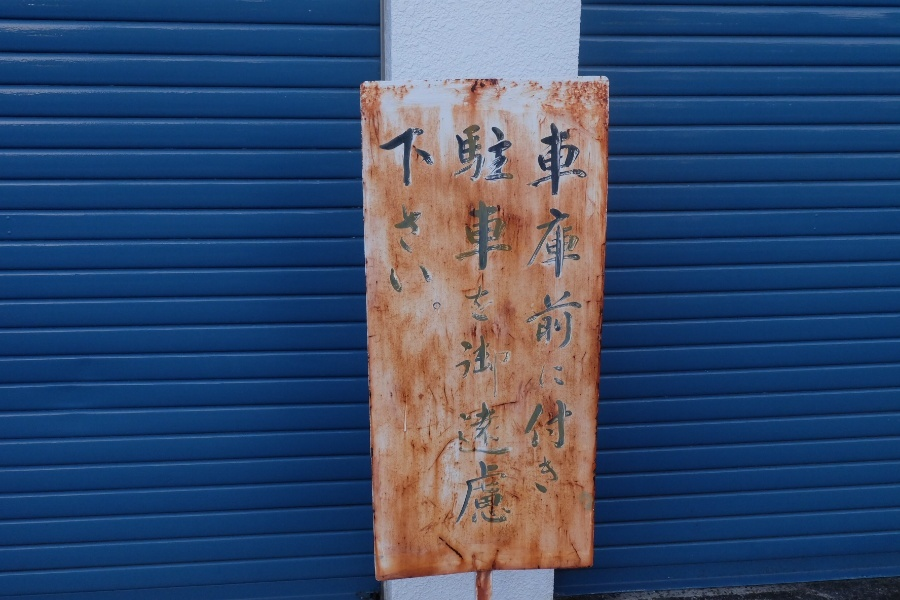text: (465, 116, 480, 530), (481, 116, 496, 530), (497, 116, 512, 530), (545, 124, 560, 495), (561, 124, 576, 495), (577, 124, 590, 495), (455, 116, 464, 530), (536, 124, 544, 495), (385, 124, 400, 312), (401, 124, 416, 312), (417, 124, 432, 312), (433, 124, 444, 312), (378, 124, 384, 312), (513, 116, 515, 530)
